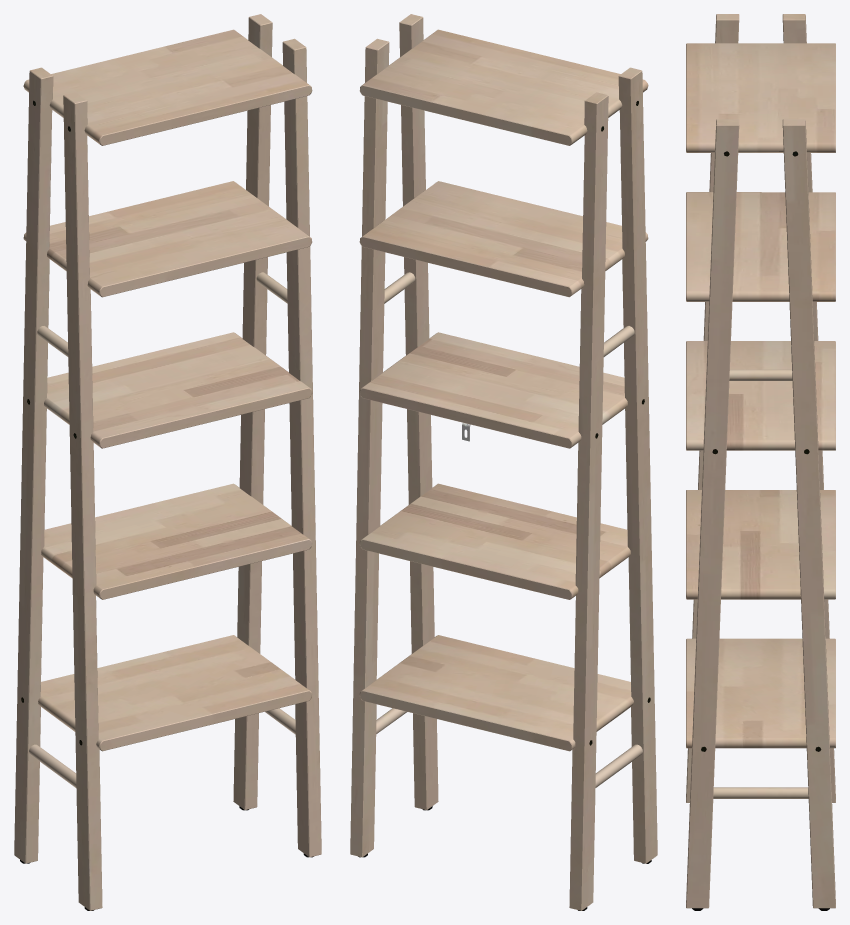
Rendered from 90344456-mini.glb.
The picture shows the model from 3 angles, left to right: view 1: azimuth 30°, elevation 25°; view 2: azimuth 150°, elevation 25°; view 3: azimuth 270°, elevation 25°; orthographic projection.
Visible parts, largest first — view 1: model; view 2: model; view 3: model.
Boxes of the visible parts, x1,y1,x2,y2 form: model: [14, 14, 321, 910]; model: [350, 14, 657, 910]; model: [686, 14, 835, 910].
Size of the model in its own units: 0.4581 by 1.51 by 0.2601.
1 material, 1 textured.
